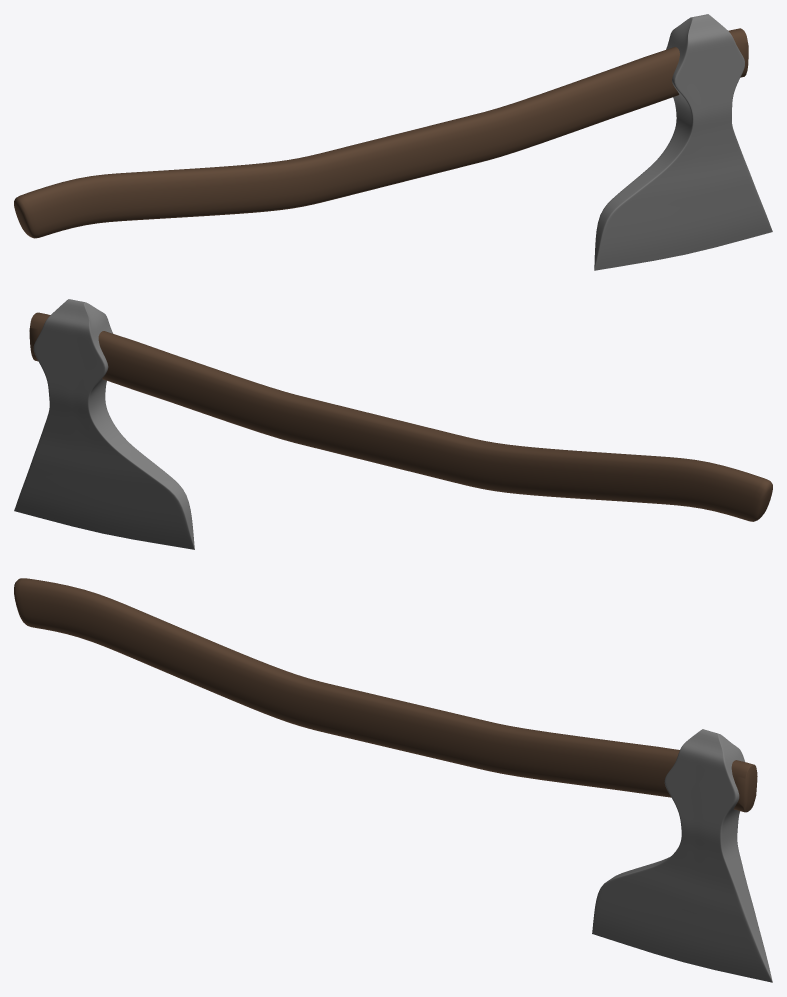
Rendered from siekiera.fbx.
3 renders of one model, top to bottom at view 1: azimuth 30°, elevation 25°; view 2: azimuth 150°, elevation 25°; view 3: azimuth 330°, elevation 25°, orthographic.
Visible parts, largest first — view 1: VikingAxe; view 2: VikingAxe; view 3: VikingAxe.
Part boxes in pixels (x1,y1,x2,y2): VikingAxe: [14, 14, 772, 270]; VikingAxe: [14, 299, 772, 549]; VikingAxe: [14, 578, 772, 982].
Bounding box in the file's own units: 521 × 152 × 23.15.
Materials: 1 (1 with a texture image).
